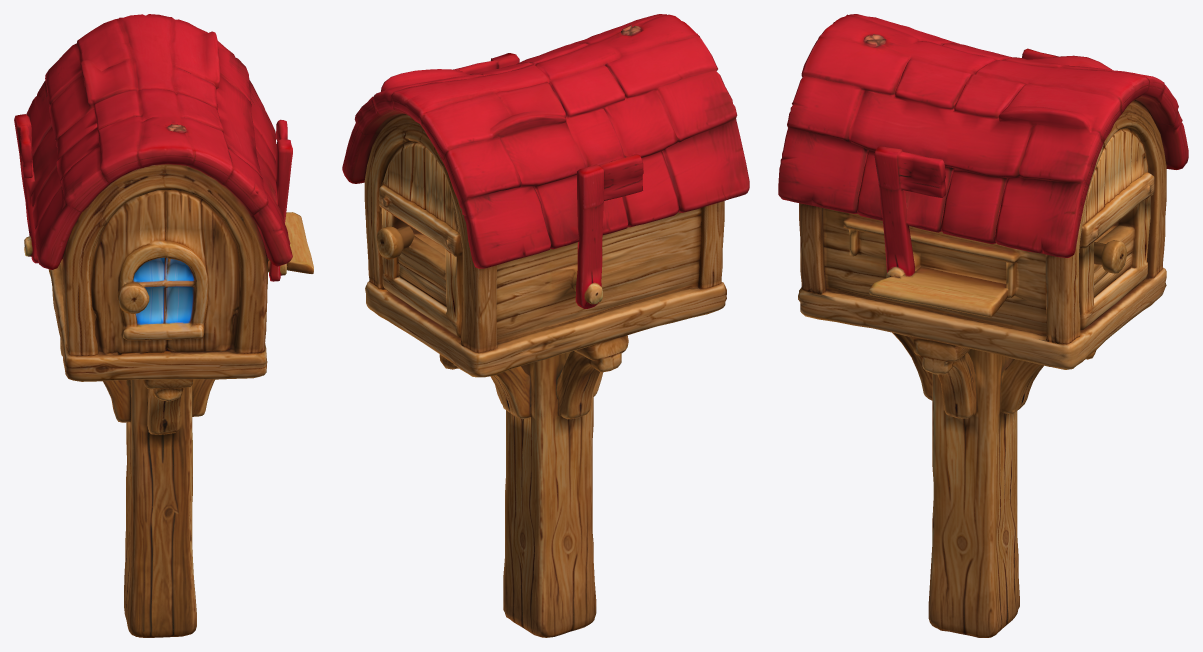
The model's file is mailbox.glb.
3 renders of one model, left to right at view 1: azimuth 30°, elevation 25°; view 2: azimuth 150°, elevation 25°; view 3: azimuth 270°, elevation 25°, orthographic. The views are drawn at different scales.
Visible parts, largest first — view 1: tripo_node_f7d76ee2-58bc-4a0e-a246-5c52c118f407; view 2: tripo_node_f7d76ee2-58bc-4a0e-a246-5c52c118f407; view 3: tripo_node_f7d76ee2-58bc-4a0e-a246-5c52c118f407.
Boxes of the visible parts, x1=… form: tripo_node_f7d76ee2-58bc-4a0e-a246-5c52c118f407: x1=14, y1=14, x2=313, y2=637; tripo_node_f7d76ee2-58bc-4a0e-a246-5c52c118f407: x1=342, y1=14, x2=749, y2=637; tripo_node_f7d76ee2-58bc-4a0e-a246-5c52c118f407: x1=778, y1=14, x2=1188, y2=637.
Size of the model in its own units: 0.5836 by 0.9778 by 0.6372.
1 material, 1 textured.
